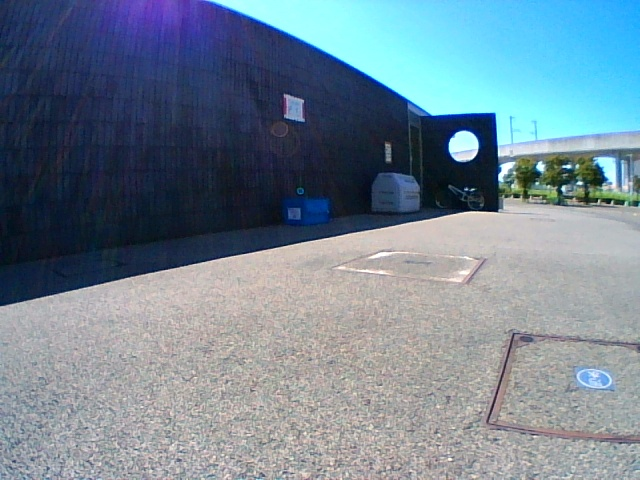blue_box: (285, 198, 327, 223)
tag: (288, 208, 299, 219)
